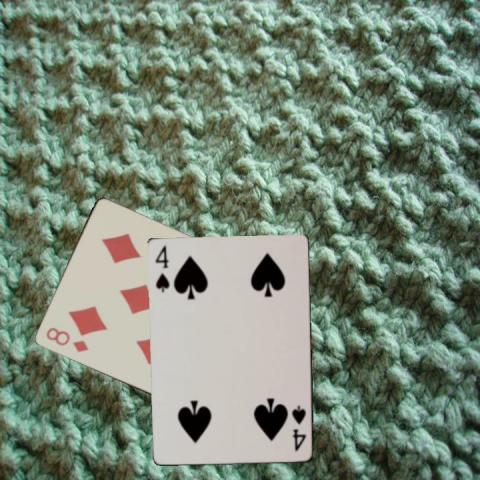4s: (289, 402, 308, 452), (153, 243, 171, 294)
8d: (43, 324, 89, 354)
